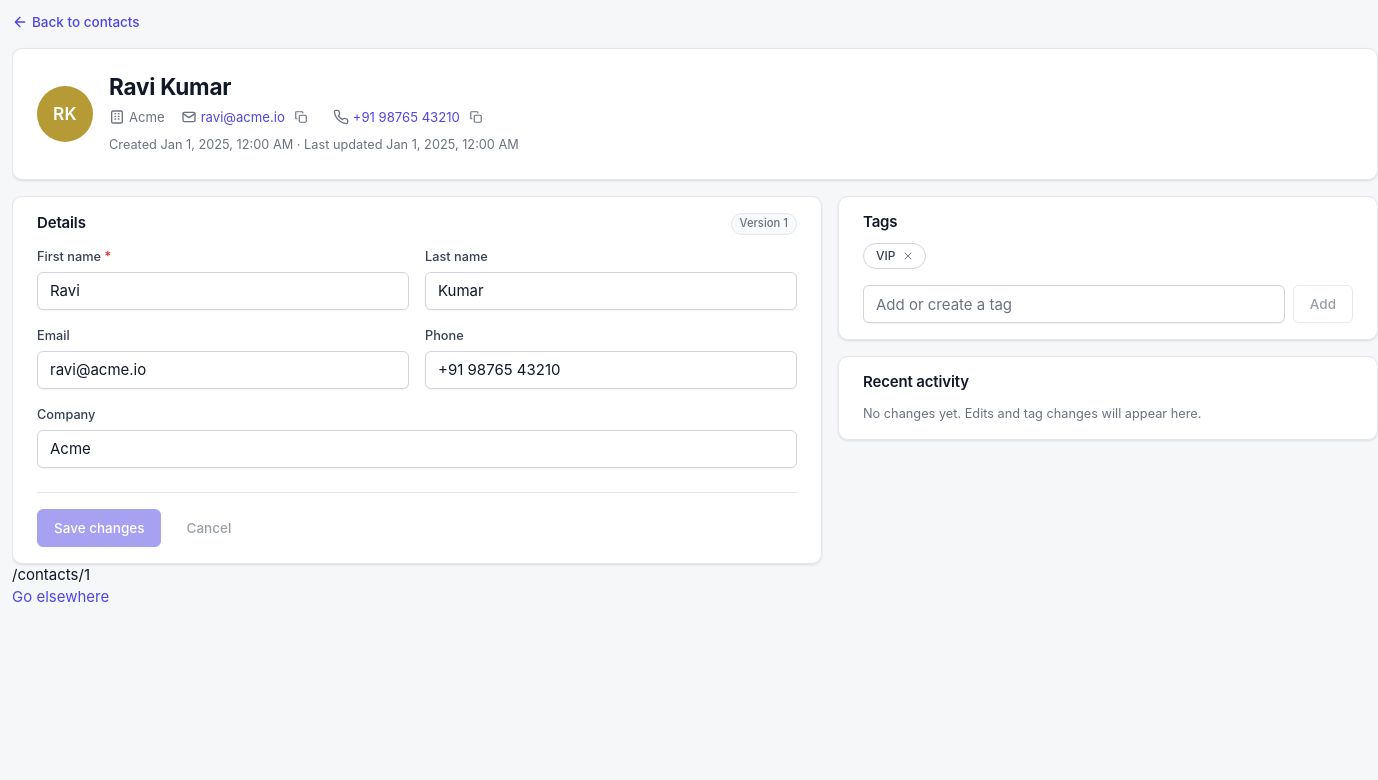
Scenario: TagEditor: optimistic updates › rolls back a failed add and gives the typed text back
Expected: the heading "Ravi Kumar" is shown, [109,73,231,100]
In the dropdown named "New tag": {"x": 1074, "y": 304} [863,285,1285,323], type "Partner"
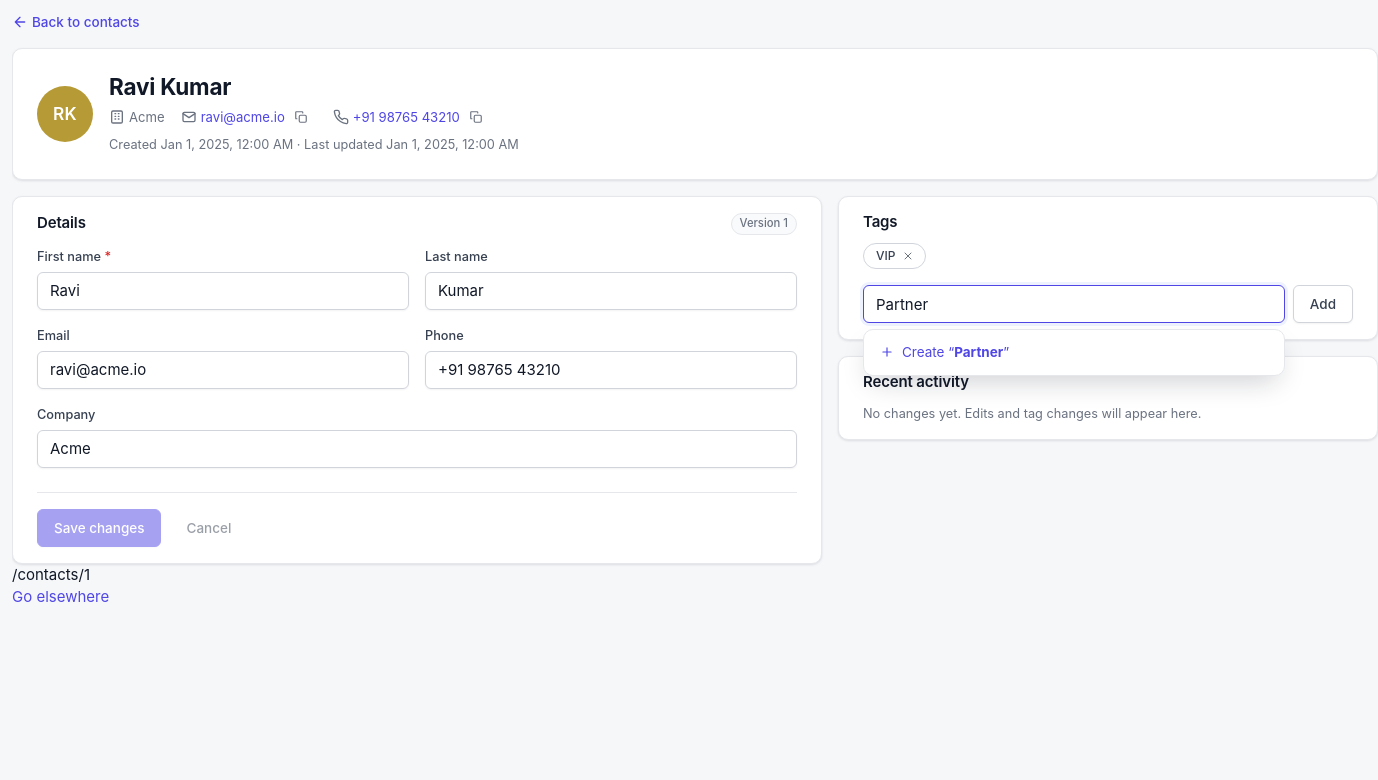
Click the button "Add": {"x": 1323, "y": 304} [1293,285,1353,323]
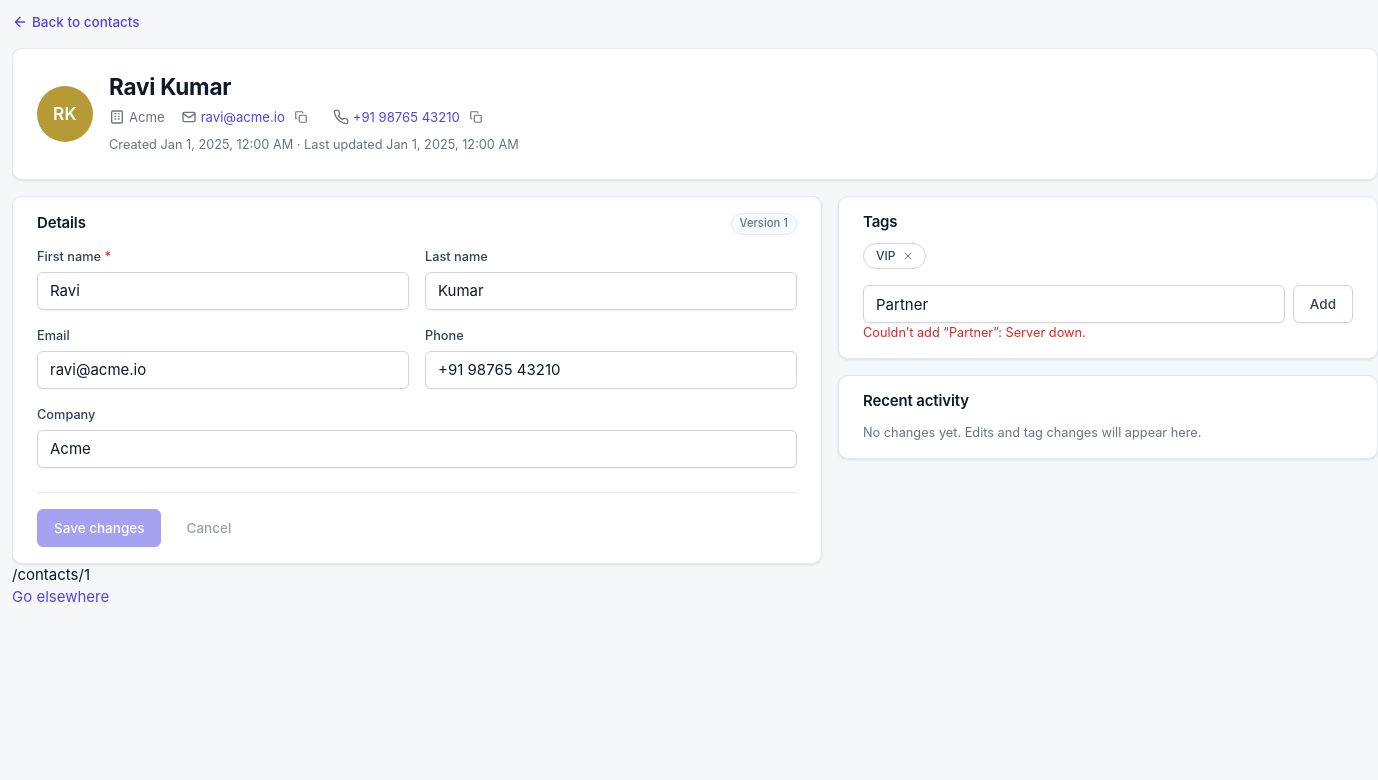
Now the text "Couldn’t add “Partner”: Server down." is shown, box [863,325,1086,340]
